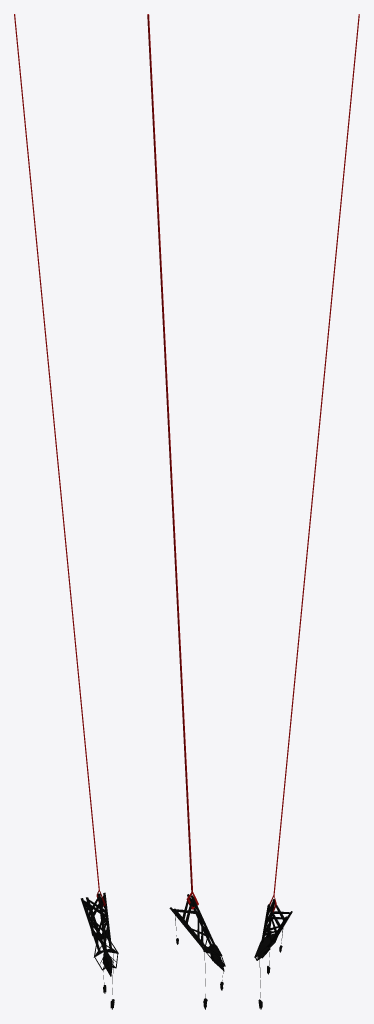
The model's file is powerplantbirds2.glb.
3 views of the same model, side by side, from view 1: azimuth 90°, elevation 25°; view 2: azimuth 150°, elevation 25°; view 3: azimuth 270°, elevation 25° (orthographic). The views are drawn at different scales.
Visible parts, largest first — view 1: string, pp; view 2: string, pp; view 3: string, pp.
Boxes of the visible parts, x1,y1,x2,y2 form: string: (14,14,105,906); pp: (80,892,118,976); string: (147,14,198,909); pp: (169,894,225,971); string: (269,14,359,912); pp: (254,899,292,960).
Bounding box in the file's own units: 9.66 × 194 × 18.62.
